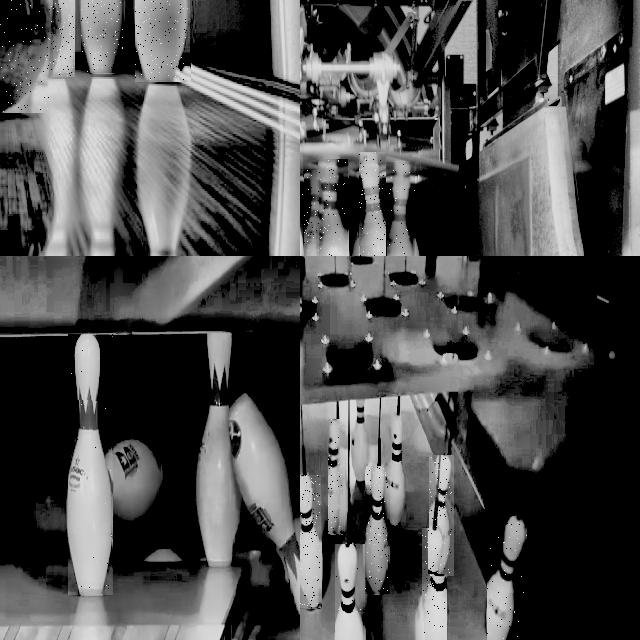bowling-pins: (68, 334, 112, 593), (487, 517, 527, 640), (135, 0, 189, 81), (81, 0, 123, 73), (365, 467, 389, 592), (335, 544, 364, 640), (359, 153, 386, 256), (429, 456, 452, 574), (422, 529, 446, 640), (300, 476, 320, 608), (319, 159, 346, 256), (388, 162, 415, 256), (385, 414, 406, 526), (53, 0, 74, 76), (352, 399, 370, 482), (329, 419, 342, 533), (305, 171, 319, 256)
